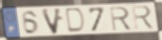6: (21, 10, 41, 35)
7: (88, 6, 106, 33)
D: (65, 7, 87, 34)
R: (131, 5, 157, 31), (108, 6, 133, 32)
V: (40, 8, 64, 36)
